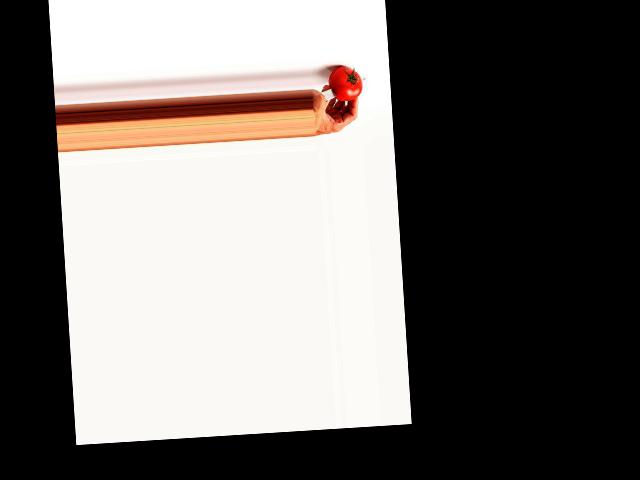tomato: (328, 65, 363, 102)
